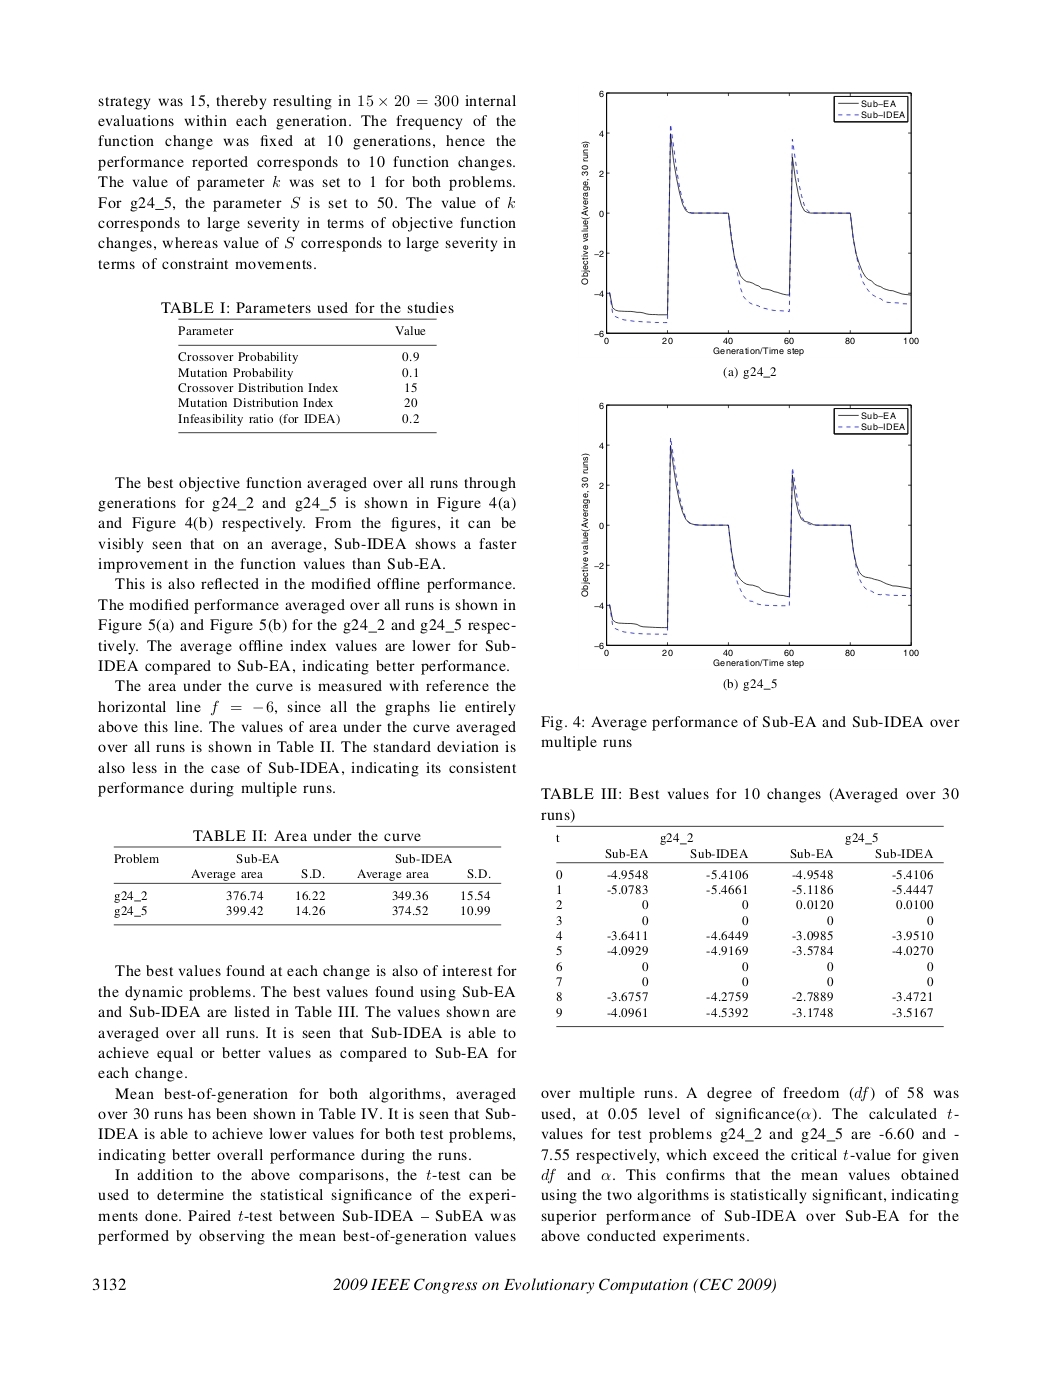Table: (541, 788, 958, 1028), (160, 302, 452, 434), (113, 830, 502, 925)
figure: (581, 89, 918, 356), (581, 401, 918, 668)
